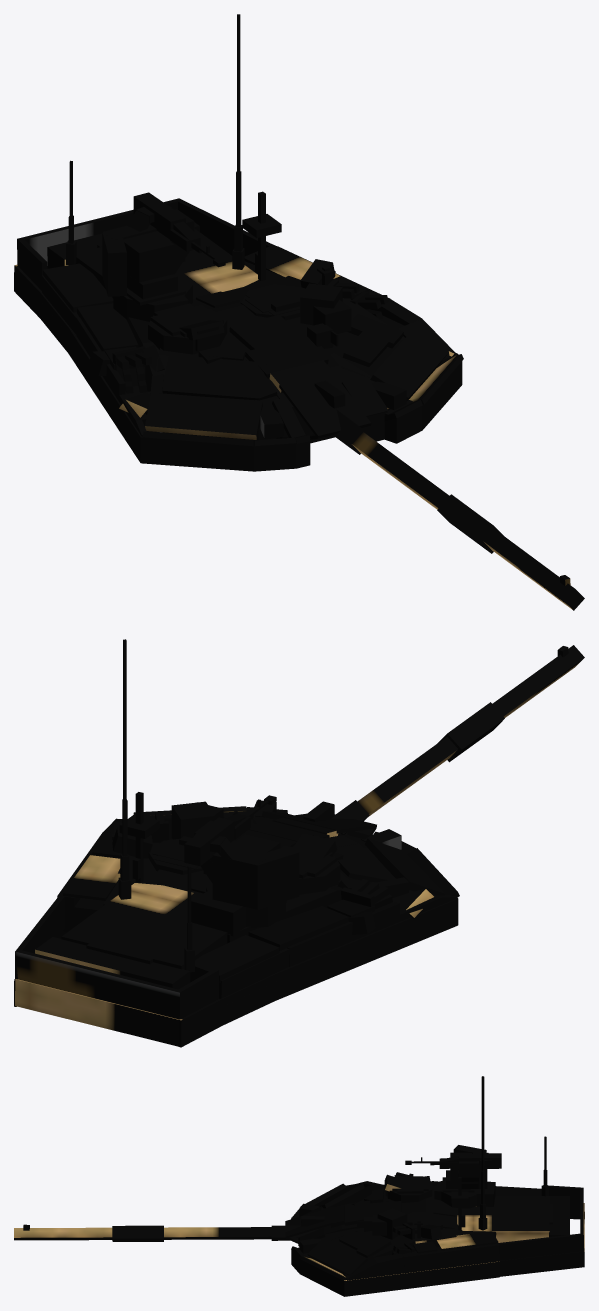
The model's file is t90m_turret.obj.
The picture shows the model from 3 angles, top to bottom: view 1: azimuth 30°, elevation 25°; view 2: azimuth 150°, elevation 25°; view 3: azimuth 270°, elevation 25°; orthographic projection. The views are drawn at different scales.
Parts seen in each view (by area): view 1: turret, gun, obj5, obj4; view 2: turret, gun, obj5, obj4; view 3: turret, gun, obj5, obj4.
Part boxes in pixels (x1,y1,x2,y2): turret: [14, 14, 463, 471]; gun: [279, 371, 584, 610]; obj5: [102, 209, 194, 298]; obj4: [127, 192, 225, 267]; turret: [14, 639, 459, 1047]; gun: [283, 645, 584, 836]; obj5: [194, 820, 299, 909]; obj4: [184, 795, 276, 866]; turret: [291, 1076, 584, 1296]; gun: [14, 1207, 332, 1243]; obj5: [446, 1145, 487, 1189]; obj4: [405, 1152, 501, 1168].
Bounding box in the file's own units: 4.37 × 4.19 × 11.14.
